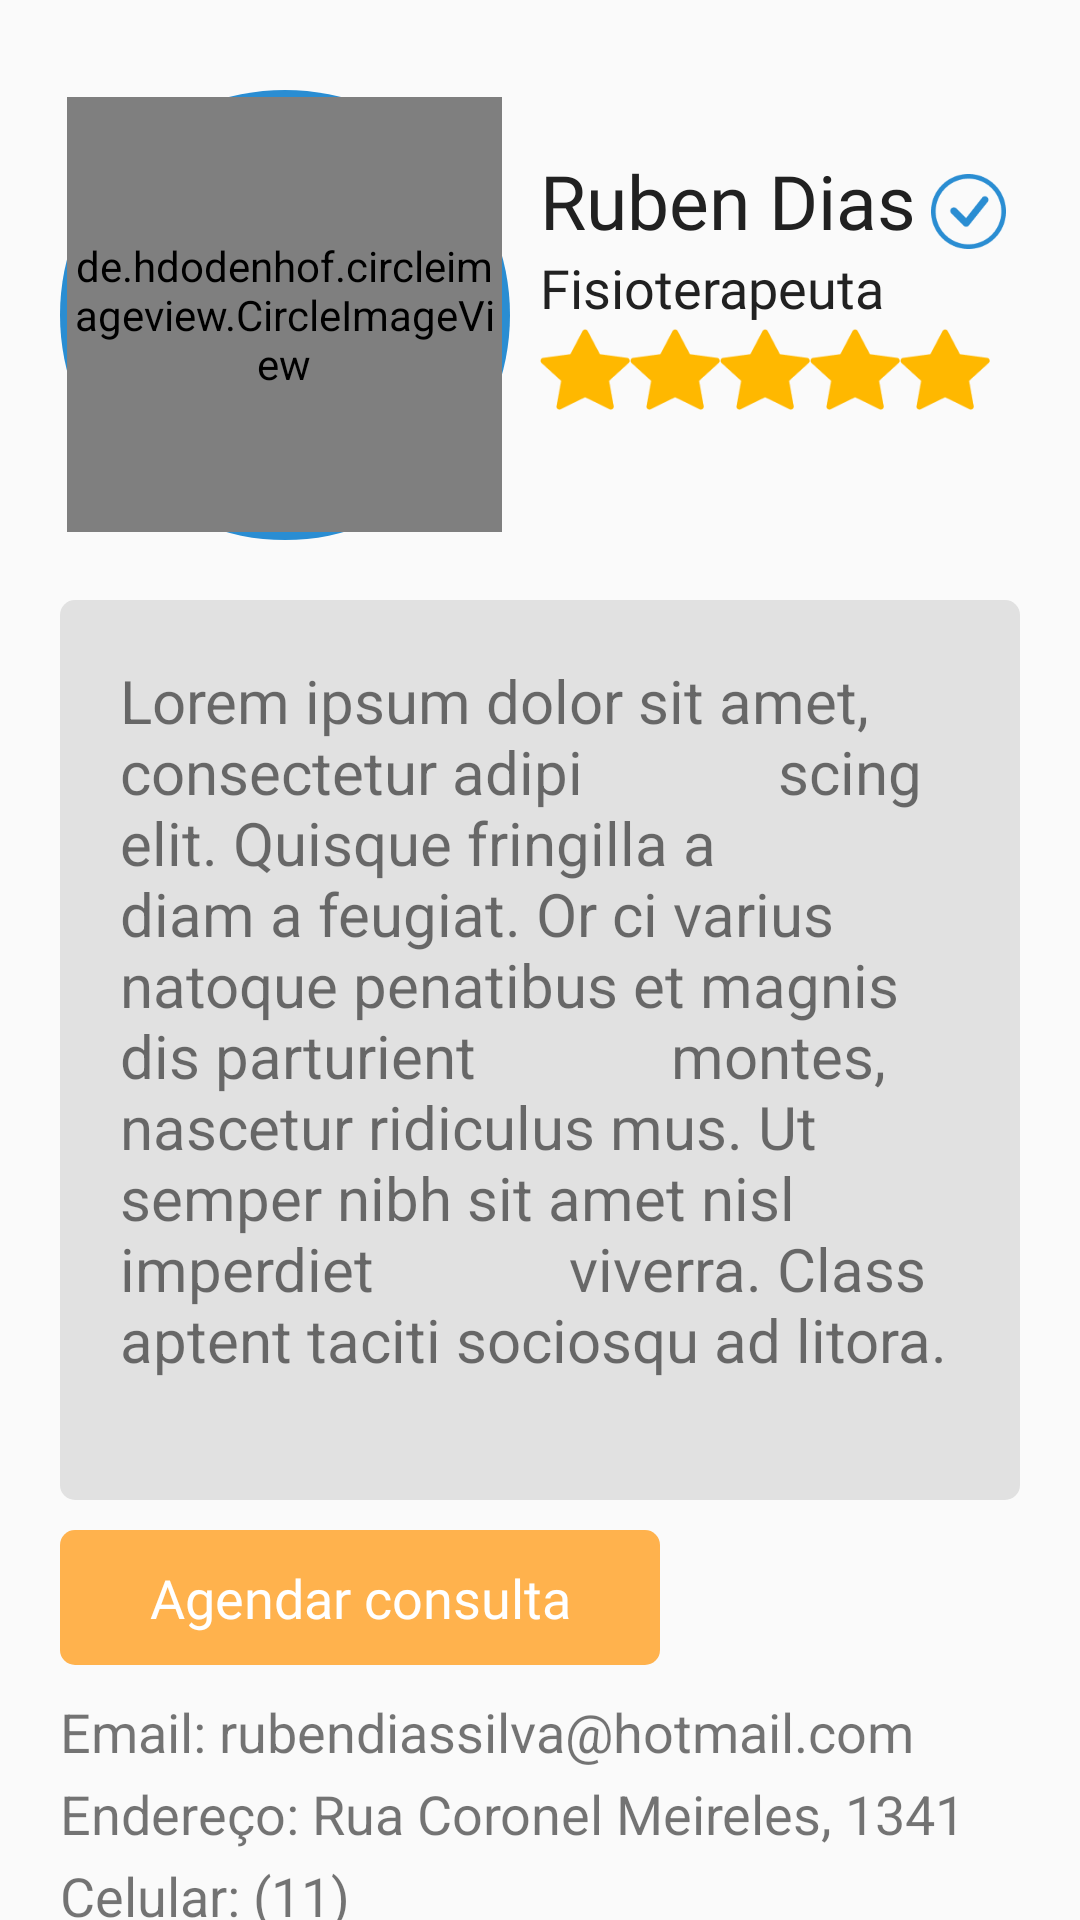

Icons on this 1080px×1920px Android screen, each with the point to tap as (x,y):
check: (968,211)
star: (585,369), (675,369), (765,369), (855,369), (945,369)
